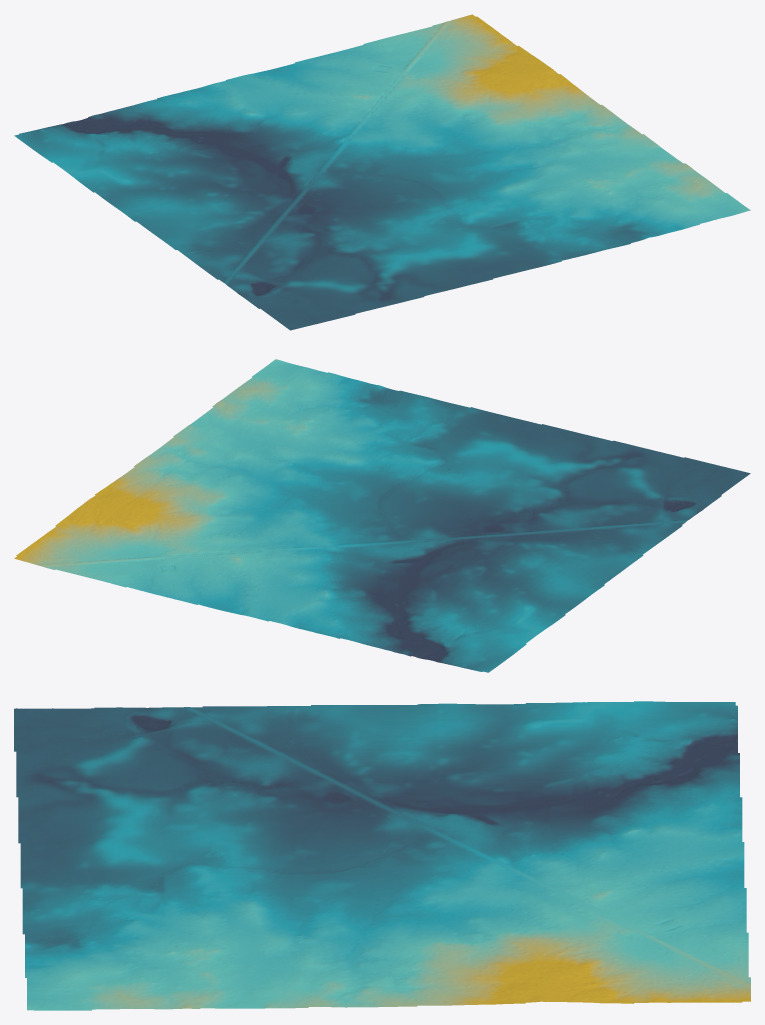
The model's file is terrain.glb.
3 renders of one model, top to bottom at view 1: azimuth 30°, elevation 25°; view 2: azimuth 150°, elevation 25°; view 3: azimuth 270°, elevation 25°, orthographic. The views are drawn at different scales.
Parts seen in each view (by area): view 1: terrain-chunk-0004, terrain-chunk-0001, terrain-chunk-0003, terrain-chunk-0000, terrain-chunk-0005, terrain-chunk-0007, terrain-chunk-0002, terrain-chunk-0006, terrain-chunk-0008; view 2: terrain-chunk-0004, terrain-chunk-0001, terrain-chunk-0003, terrain-chunk-0000, terrain-chunk-0007, terrain-chunk-0005, terrain-chunk-0002, terrain-chunk-0006, terrain-chunk-0008; view 3: terrain-chunk-0003, terrain-chunk-0004, terrain-chunk-0001, terrain-chunk-0000, terrain-chunk-0007, terrain-chunk-0006, terrain-chunk-0005, terrain-chunk-0002, terrain-chunk-0008.
Part boxes in pixels (box(x1,y1,x2,y2)): terrain-chunk-0004: box(254, 92, 534, 214); terrain-chunk-0001: box(357, 169, 632, 287); terrain-chunk-0003: box(78, 139, 356, 255); terrain-chunk-0000: box(186, 214, 456, 330); terrain-chunk-0005: box(432, 62, 650, 169); terrain-chunk-0007: box(189, 44, 431, 138); terrain-chunk-0002: box(535, 139, 750, 242); terrain-chunk-0006: box(14, 90, 253, 180); terrain-chunk-0008: box(365, 14, 543, 92); terrain-chunk-0004: box(193, 462, 476, 583); terrain-chunk-0001: box(297, 390, 578, 507); terrain-chunk-0003: box(373, 507, 649, 625); terrain-chunk-0000: box(477, 433, 750, 548); terrain-chunk-0007: box(125, 536, 372, 630); terrain-chunk-0005: box(80, 431, 296, 536); terrain-chunk-0002: box(180, 359, 395, 461); terrain-chunk-0006: box(307, 583, 550, 672); terrain-chunk-0008: box(14, 506, 192, 586); terrain-chunk-0003: box(289, 702, 566, 819); terrain-chunk-0004: box(289, 818, 566, 934); terrain-chunk-0001: box(18, 817, 289, 936); terrain-chunk-0000: box(14, 706, 289, 819); terrain-chunk-0007: box(566, 817, 748, 933); terrain-chunk-0006: box(566, 701, 742, 819); terrain-chunk-0005: box(289, 932, 566, 1008); terrain-chunk-0002: box(25, 933, 289, 1010); terrain-chunk-0008: box(566, 932, 750, 1003).
Size of the model in its own units: 2040 by 28.18 by 2040.
